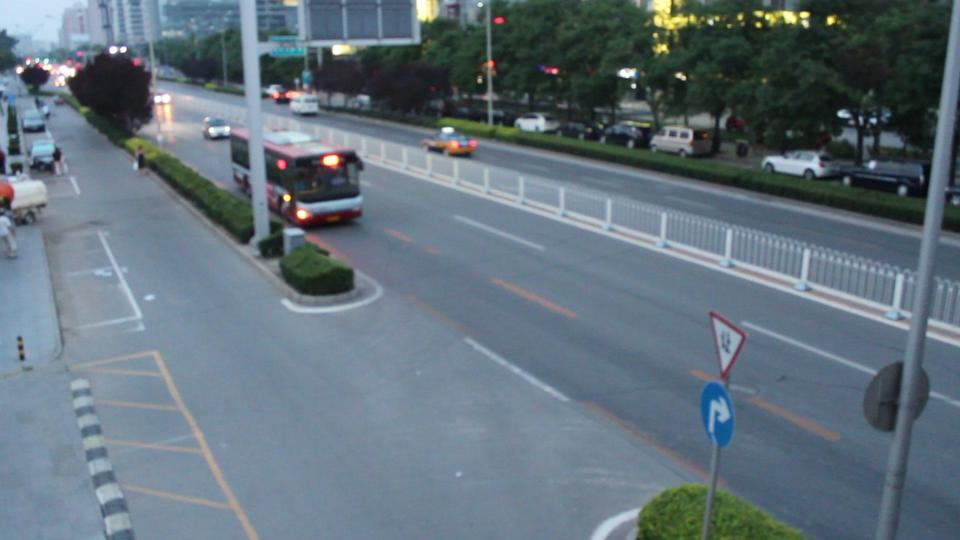Bus: (229, 124, 363, 225)
Car: (418, 128, 474, 155), (203, 115, 230, 137)
Minivan: (291, 93, 318, 114)
